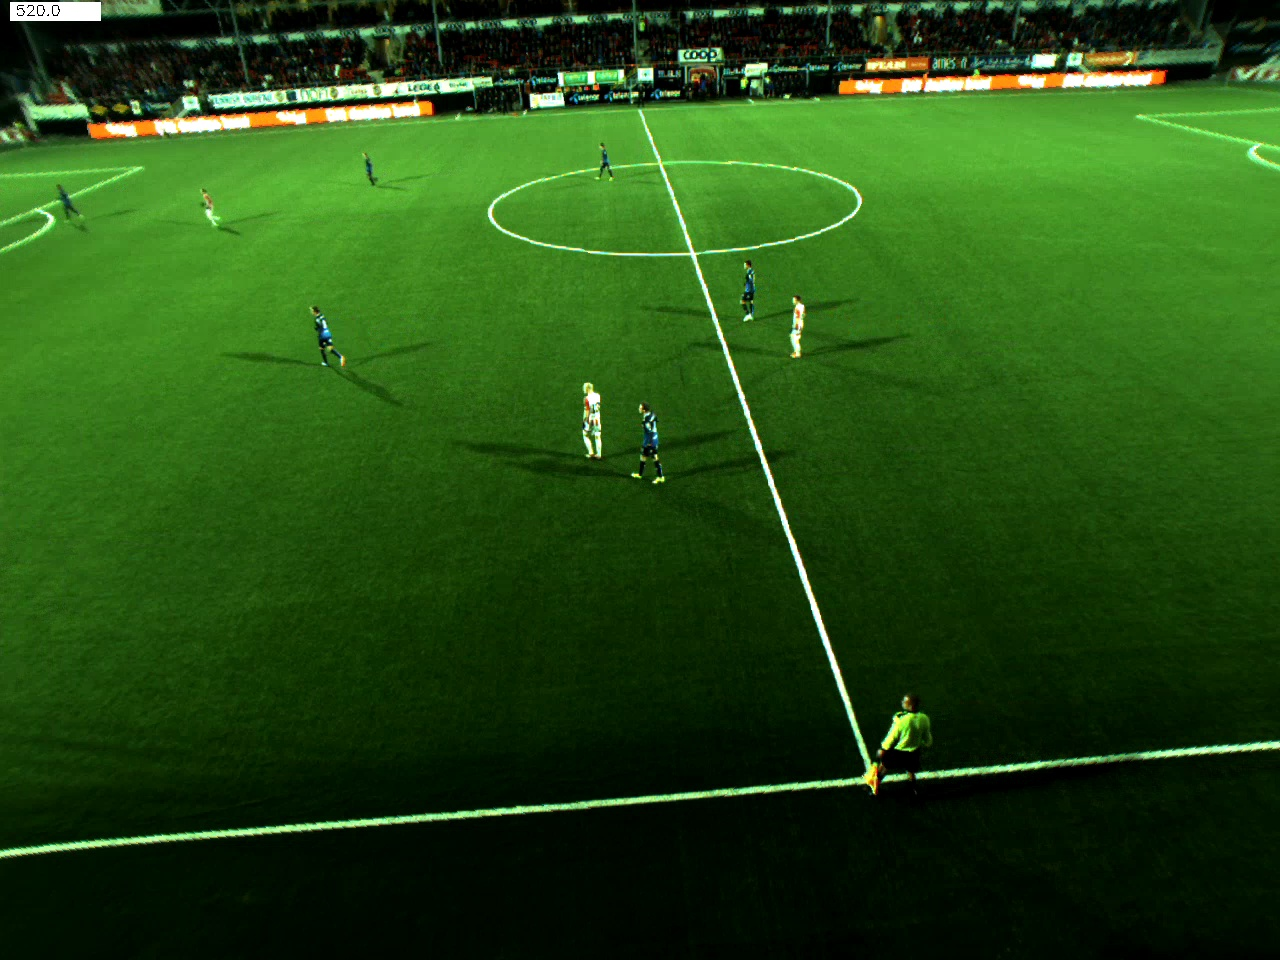blue: (633, 406, 681, 496), (308, 307, 349, 366), (739, 259, 763, 325), (51, 184, 84, 230), (359, 150, 387, 184), (594, 144, 613, 182)
red: (573, 387, 605, 464), (191, 182, 224, 228), (785, 292, 803, 367)
yellow: (869, 684, 945, 799)
